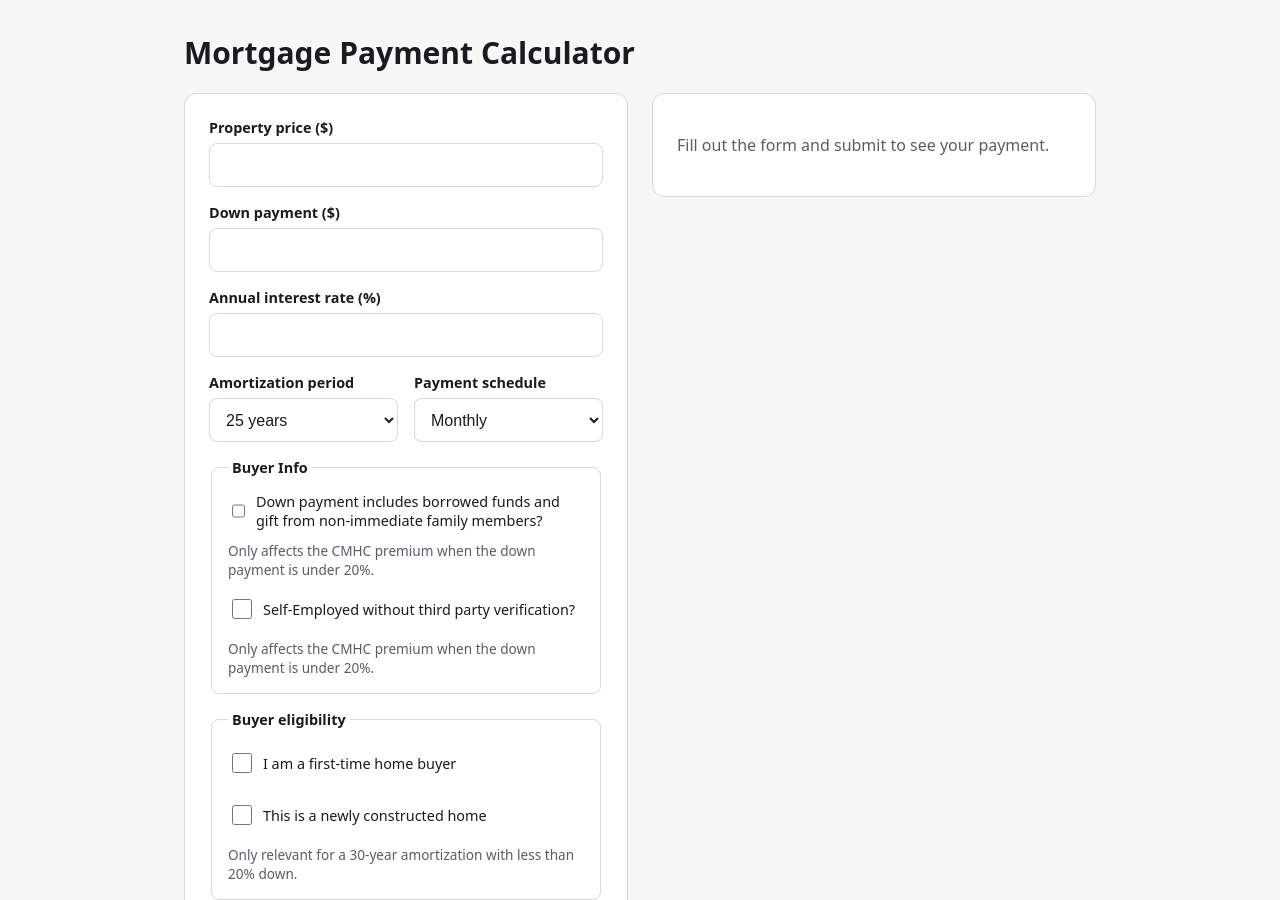
Test case: App › shows the server's error message on a 400 response
The width and height of the screenshot is (1280, 900).
Type "500000" into the field labelled "Property price ($)".
click(406, 165); type("500000")  # box [209,143,603,187]
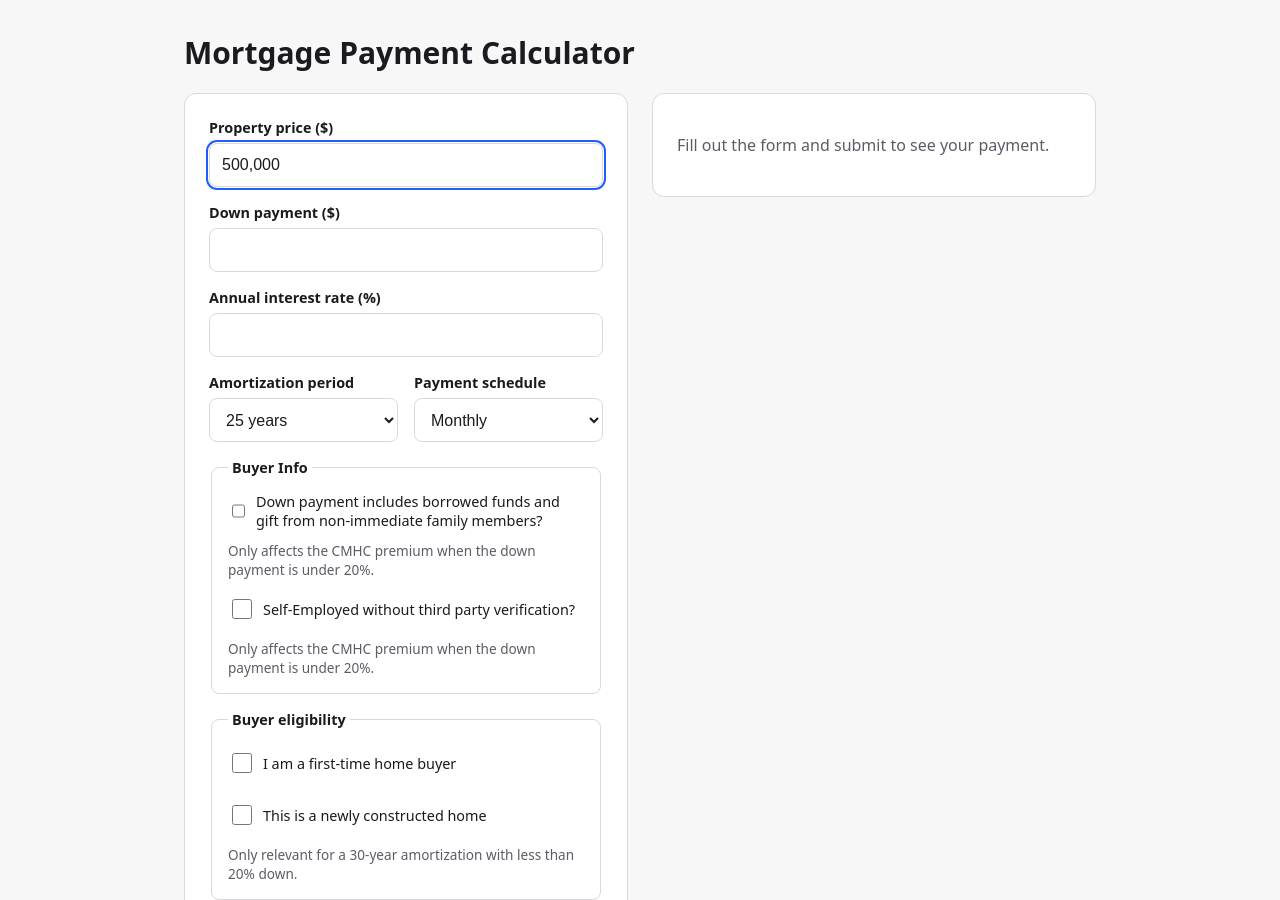
Type "100000" into the field labelled "Down payment ($)".
click(406, 250); type("100000")  # box [209,228,603,272]
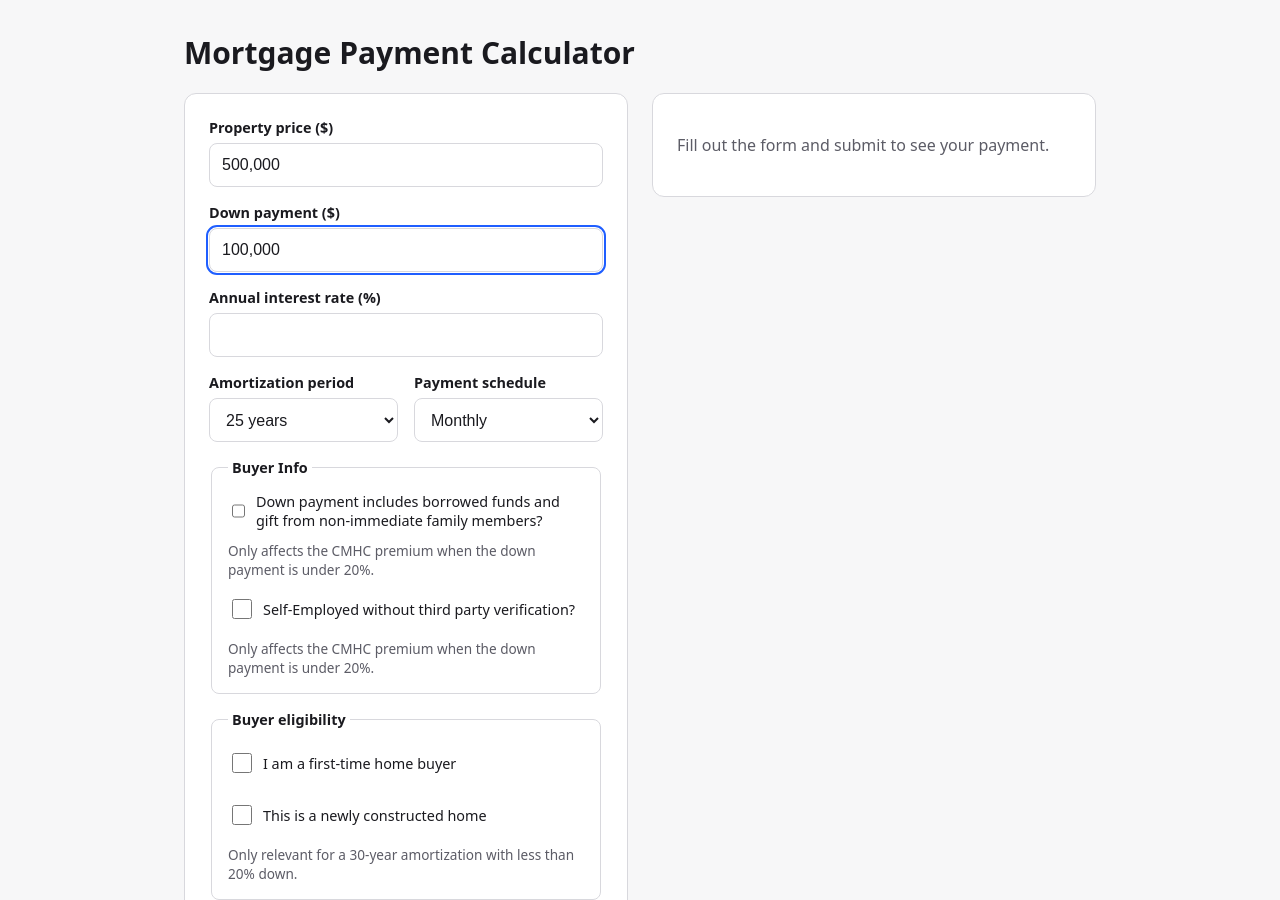
Type "5" into the number field labelled "Annual interest rate (%)".
click(406, 335); type("5")  # box [209,313,603,357]
(page scrolled)
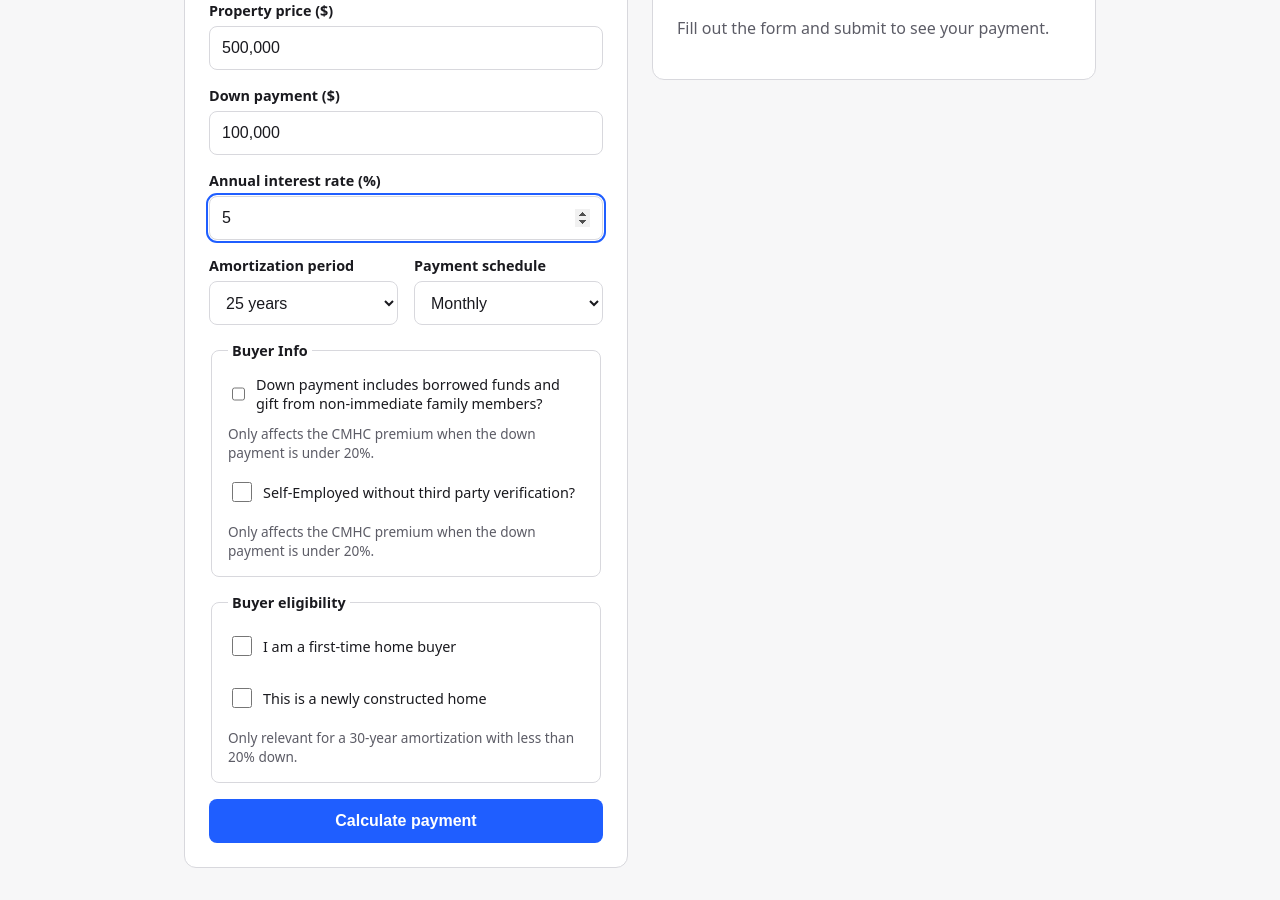
Click the button "Calculate payment".
click(406, 821)  # box [209,799,603,843]
(page scrolled)
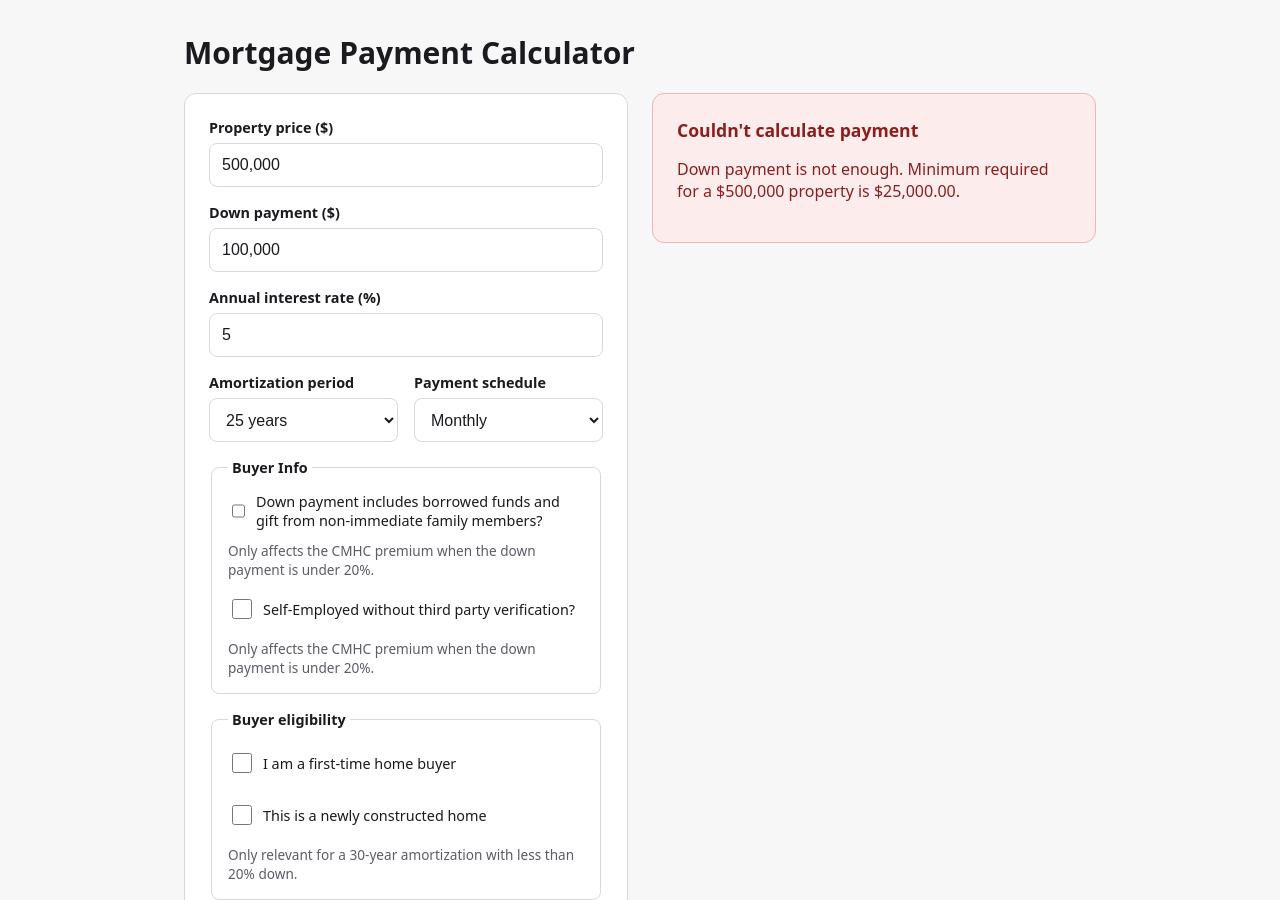
Now the message shows "Down payment is not enough", box [677,158,1048,202]
